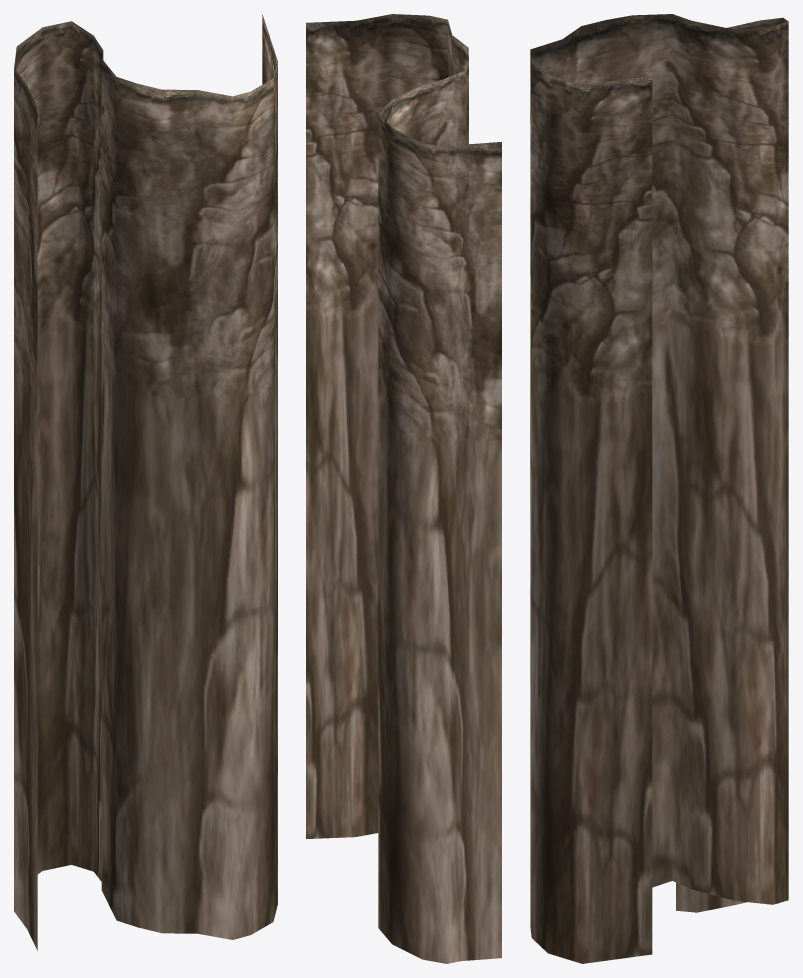
The model's file is OVERHILL_A_01_LINE74.fbx.
3 views of the same model, side by side, from view 1: azimuth 30°, elevation 25°; view 2: azimuth 150°, elevation 25°; view 3: azimuth 270°, elevation 25° (orthographic). The views are drawn at different scales.
Parts seen in each view (by area): view 1: OVERHILL_A_01_LINE74; view 2: OVERHILL_A_01_LINE74; view 3: OVERHILL_A_01_LINE74.
Boxes of the visible parts, x1=… form: OVERHILL_A_01_LINE74: x1=14, y1=14, x2=277, y2=951; OVERHILL_A_01_LINE74: x1=306, y1=14, x2=501, y2=963; OVERHILL_A_01_LINE74: x1=530, y1=14, x2=788, y2=963.
Size of the model in its own units: 50530 by 204552 by 50667.
Materials: 2 (2 with a texture image).
